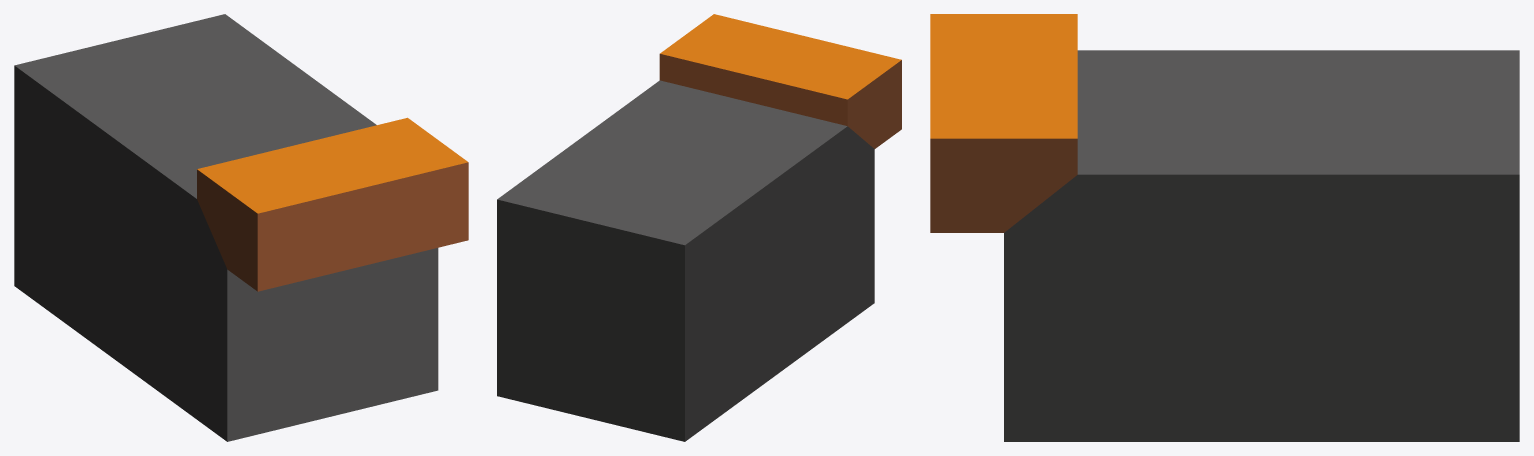
File: COSMIC_F_Perimeter_05U.fbx
The picture shows the model from 3 angles, left to right: view 1: azimuth 30°, elevation 25°; view 2: azimuth 150°, elevation 25°; view 3: azimuth 270°, elevation 25°; orthographic projection. The views are drawn at different scales.
Parts seen in each view (by area): view 1: COSMIC_F_Perimeter_05U; view 2: COSMIC_F_Perimeter_05U; view 3: COSMIC_F_Perimeter_05U.
Part boxes in pixels (x1,y1,x2,y2): COSMIC_F_Perimeter_05U: (14,14,468,441); COSMIC_F_Perimeter_05U: (497,14,901,441); COSMIC_F_Perimeter_05U: (930,14,1519,441).
Size of the model in its own units: 0.25 by 0.2839 by 0.5.
